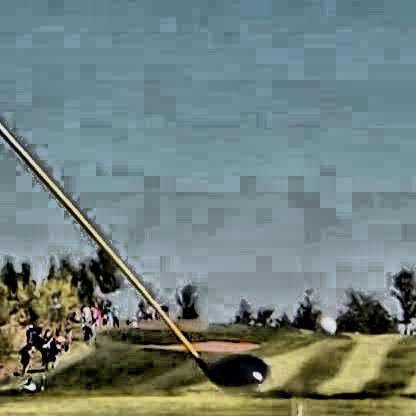golfball: (315, 314, 335, 335)
